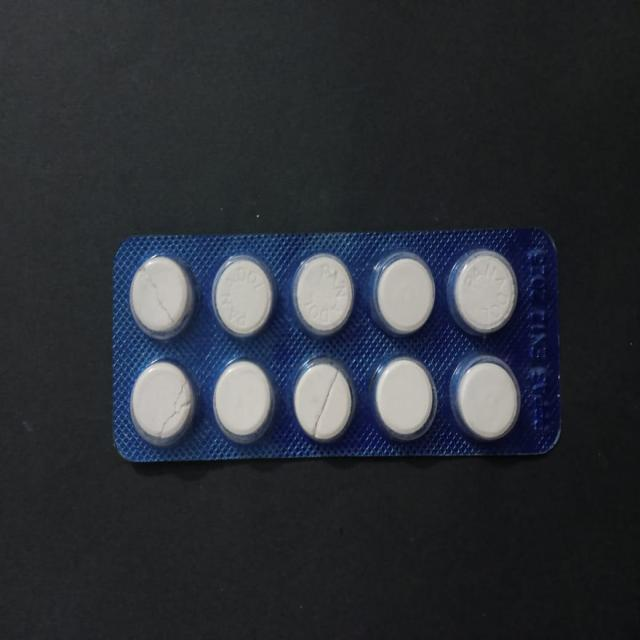defect: (129, 354, 200, 450), (127, 251, 197, 345), (291, 354, 358, 447)
